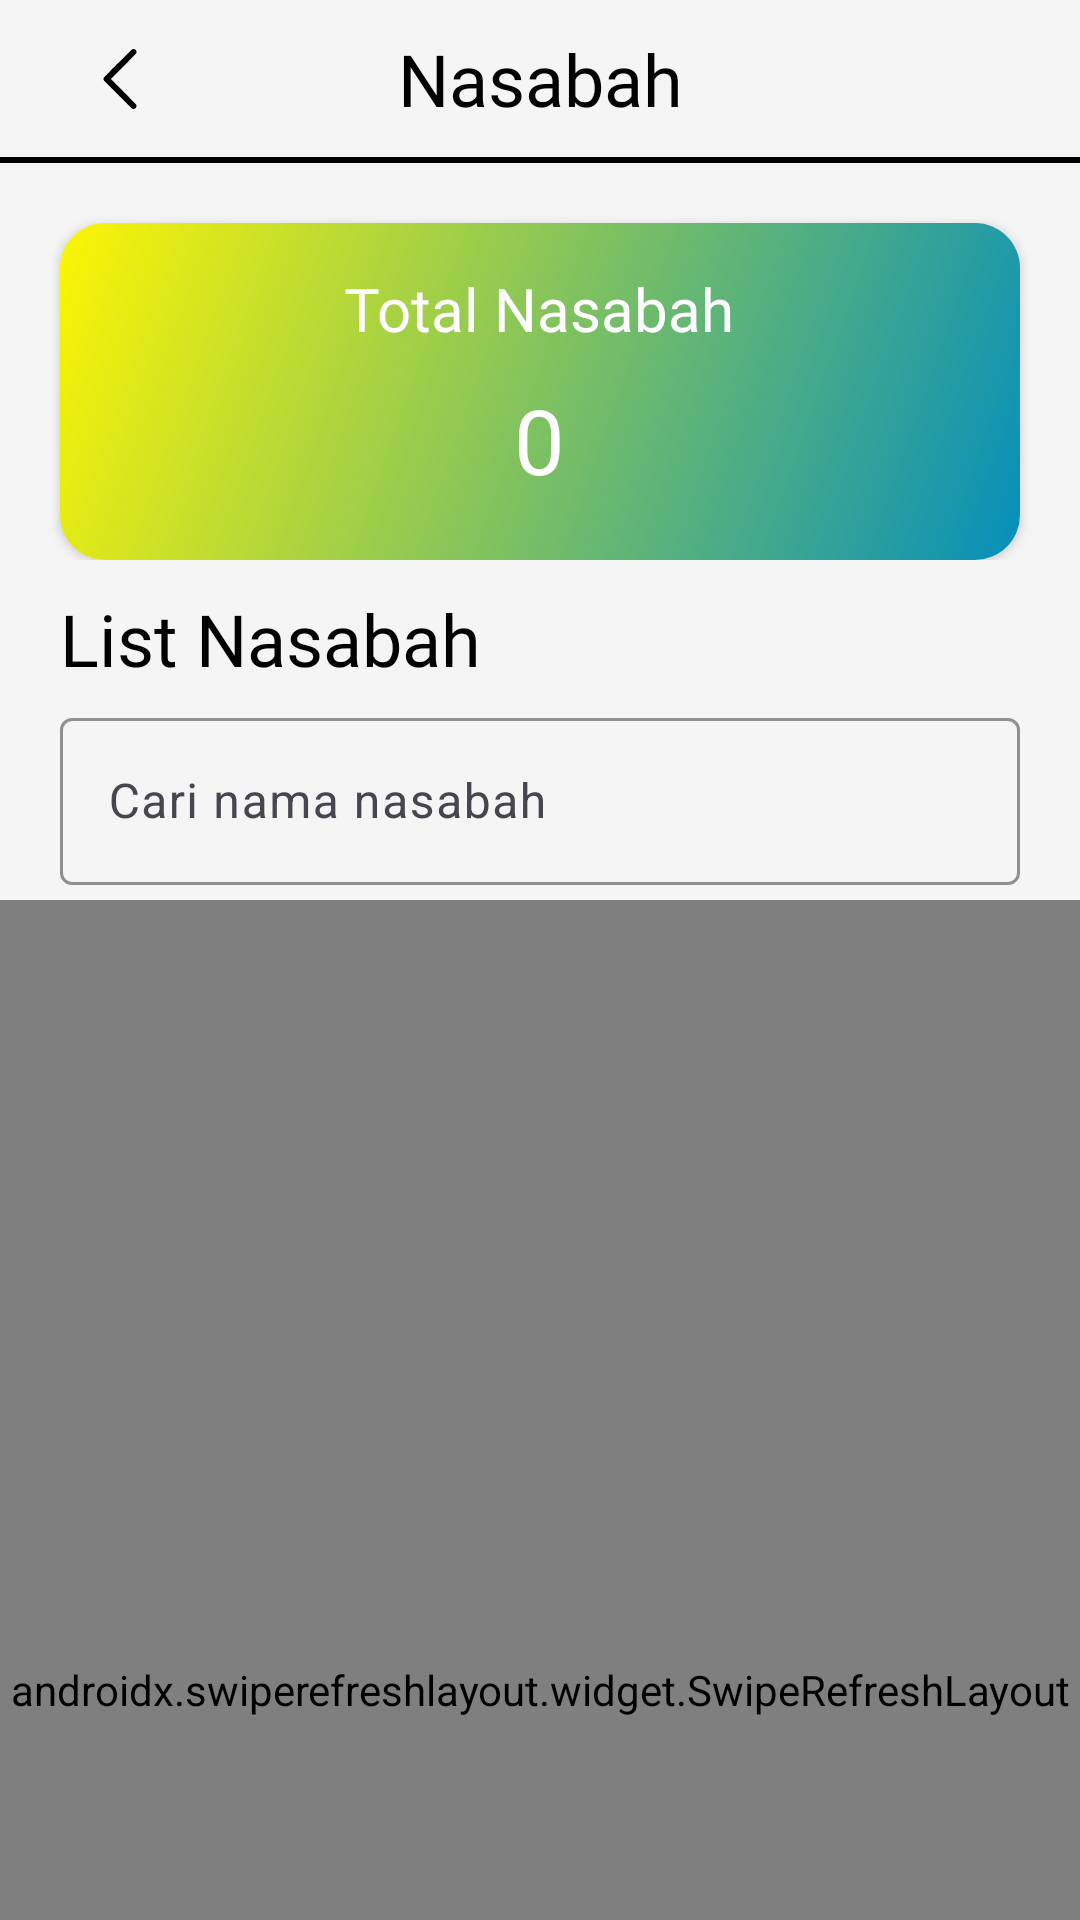

Named icons in this screenshot (1080px x 1920px) and their centers, point (x, y):
back: point (120, 79)
